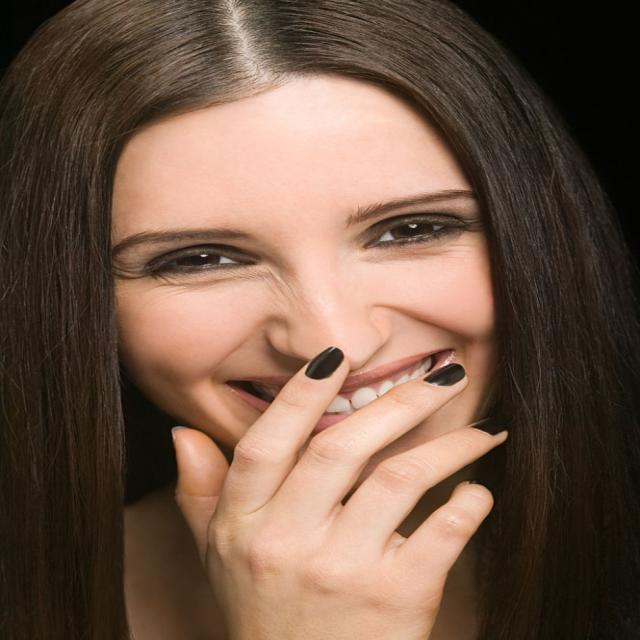nomask: (110, 73, 496, 508)
